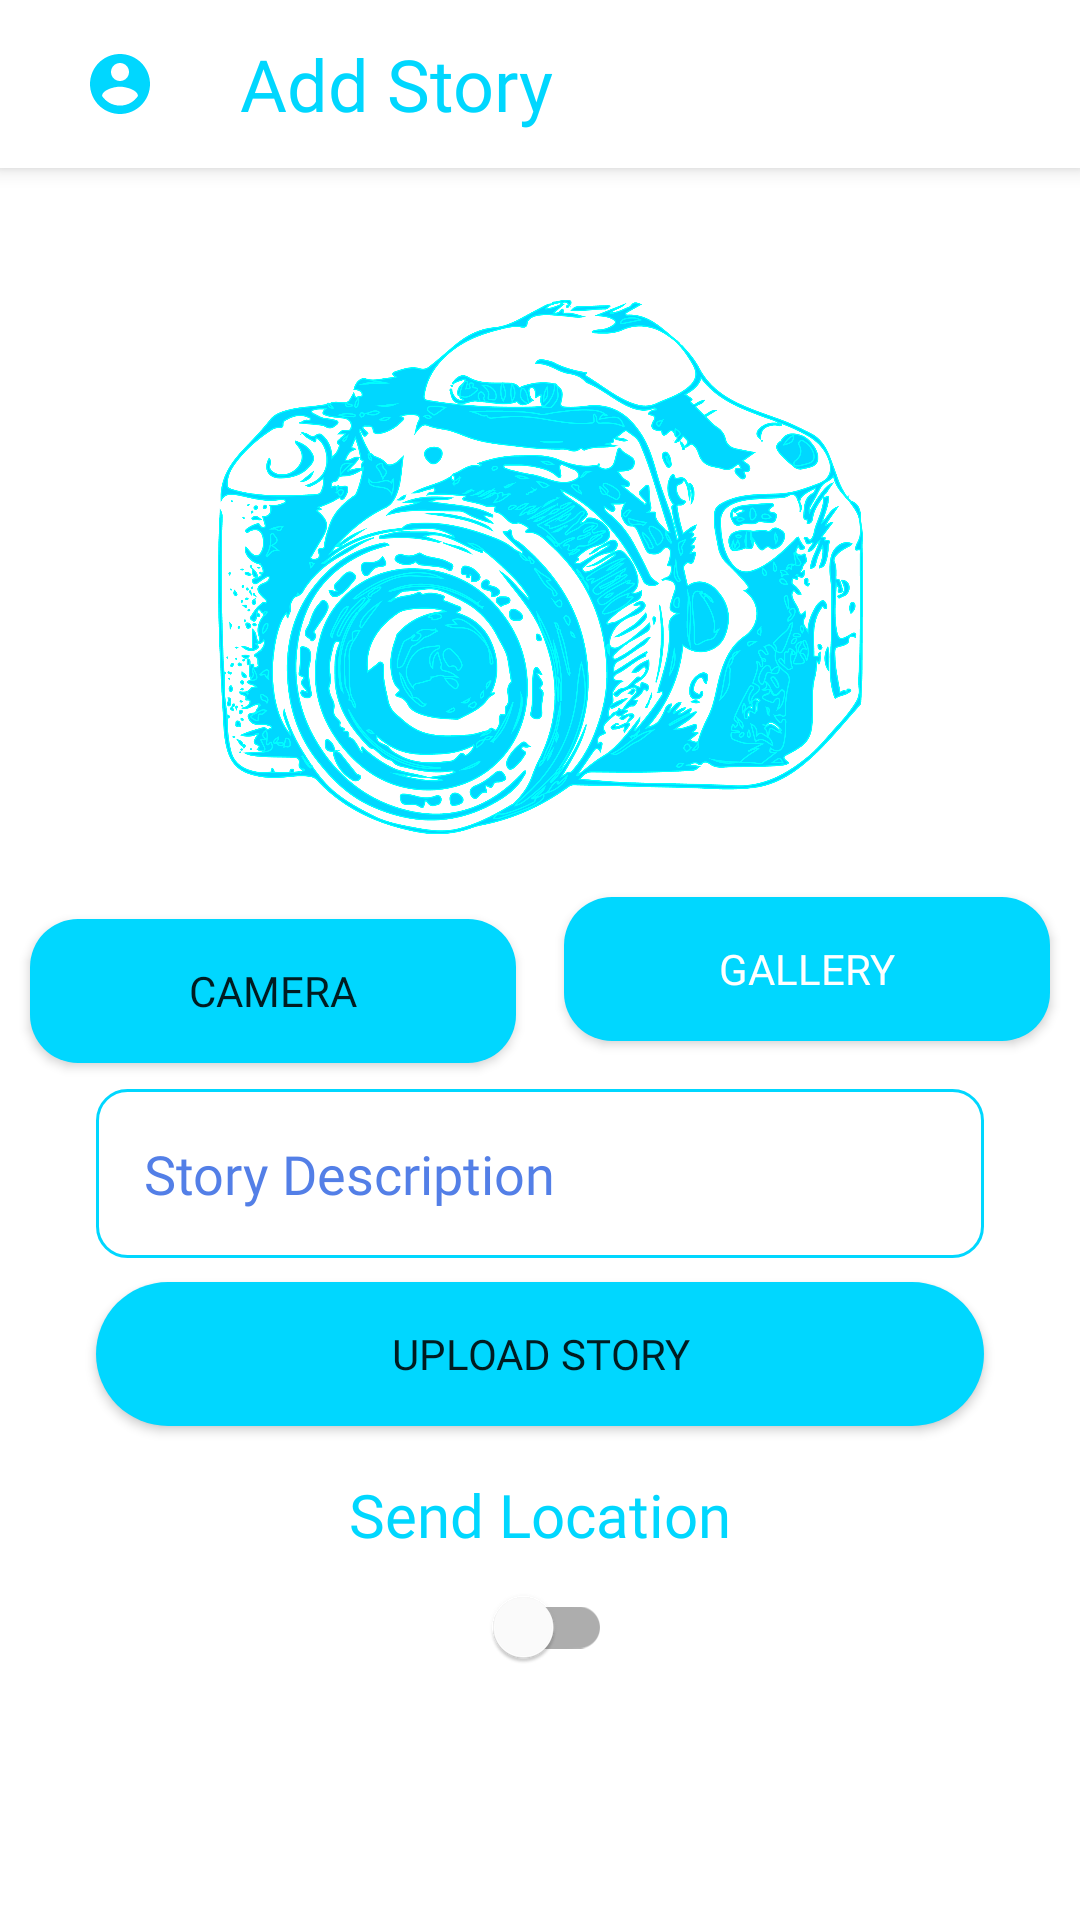

Icons on this 1080w x 1920h Android screen, each with its box as bbox(x1, y1, x2, y2):
Account: bbox(90, 54, 150, 114)
